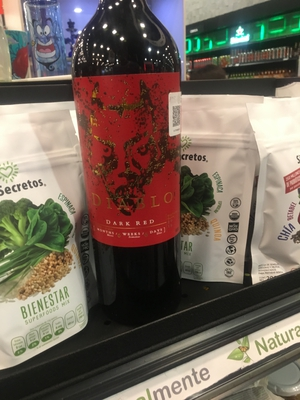diablo dark red: (71, 10, 198, 315)
